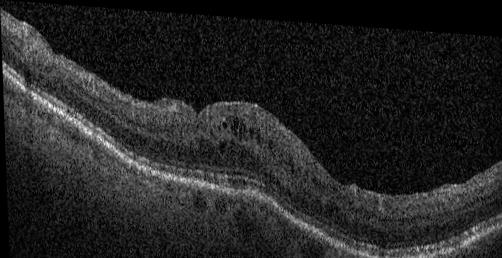intraretinal_cyst: (229, 114, 238, 133), (238, 116, 245, 138), (217, 136, 226, 152), (287, 158, 294, 169), (248, 124, 253, 135), (254, 130, 259, 141), (267, 136, 271, 145), (222, 119, 226, 126)
